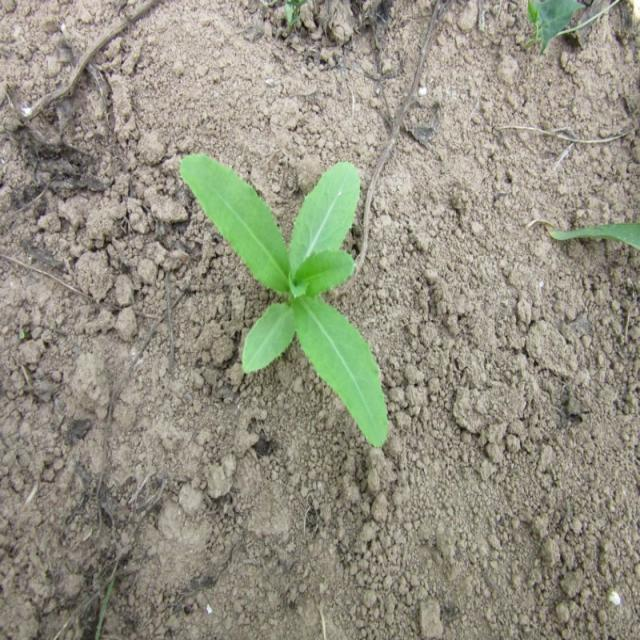cs: (175, 146, 392, 456)
